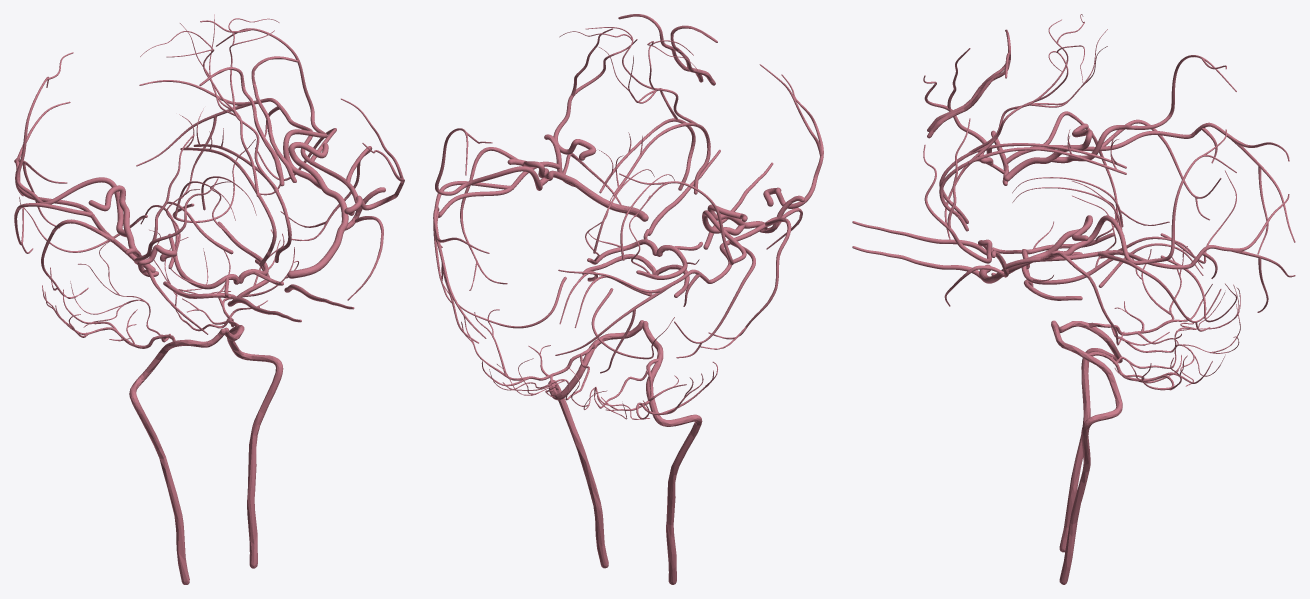
Rendered from cardiovascular-01.glb.
3 renders of one model, left to right at view 1: azimuth 30°, elevation 25°; view 2: azimuth 150°, elevation 25°; view 3: azimuth 270°, elevation 25°, orthographic. The views are drawn at different scales.
Visible parts, largest first — view 1: FJ1725, FJ1725M, FJ1729M, FJ1716, FJ1716M, FJ1729, FJ1724, FJ1694M, FJ1724M, FJ1694, FJ1699, FJ1722M (+8 smaller); view 2: FJ1725, FJ1725M, FJ1729, FJ1729M, FJ1716, FJ1716M, FJ1724, FJ1724M, FJ1699, FJ1699M, FJ1693, FJ1693M (+6 smaller); view 3: FJ1725M, FJ1725, FJ1729, FJ1729M, FJ1716M, FJ1716, FJ1724M, FJ1699M, FJ1699, FJ1694, FJ1724, FJ1694M (+7 smaller).
Boxes of the visible parts, x1,y1,x2,y2 form: FJ1725: (129, 328, 225, 584); FJ1725M: (224, 325, 283, 568); FJ1729M: (136, 80, 358, 212); FJ1716: (16, 52, 130, 237); FJ1716M: (200, 20, 327, 188); FJ1729: (14, 101, 138, 265); FJ1724: (134, 134, 218, 264); FJ1694M: (288, 142, 348, 223); FJ1724M: (341, 98, 404, 215); FJ1694: (88, 185, 155, 272); FJ1699: (179, 114, 276, 266); FJ1722M: (251, 56, 298, 182); FJ1725: (642, 321, 702, 584); FJ1725M: (548, 320, 643, 568); FJ1729: (555, 217, 778, 373); FJ1729M: (433, 161, 560, 343); FJ1716: (619, 173, 746, 265); FJ1716M: (435, 128, 551, 195); FJ1724: (759, 64, 823, 208); FJ1724M: (553, 28, 637, 160); FJ1699: (612, 122, 710, 196); FJ1699M: (599, 118, 695, 193); FJ1693: (700, 217, 791, 349); FJ1693M: (460, 147, 522, 290); FJ1725M: (1051, 322, 1122, 584); FJ1725: (1051, 320, 1122, 552); FJ1729: (1003, 122, 1295, 254); FJ1729M: (1005, 194, 1295, 312); FJ1716M: (1049, 129, 1236, 264); FJ1716: (1049, 55, 1236, 163); FJ1724M: (923, 118, 992, 263); FJ1699M: (939, 136, 1126, 231); FJ1699: (939, 127, 1126, 223); FJ1694: (1004, 123, 1092, 181); FJ1724: (923, 48, 993, 165); FJ1694M: (1008, 215, 1092, 272).
Bounding box in the file's own units: 0.1419 × 0.2325 × 0.1752.
